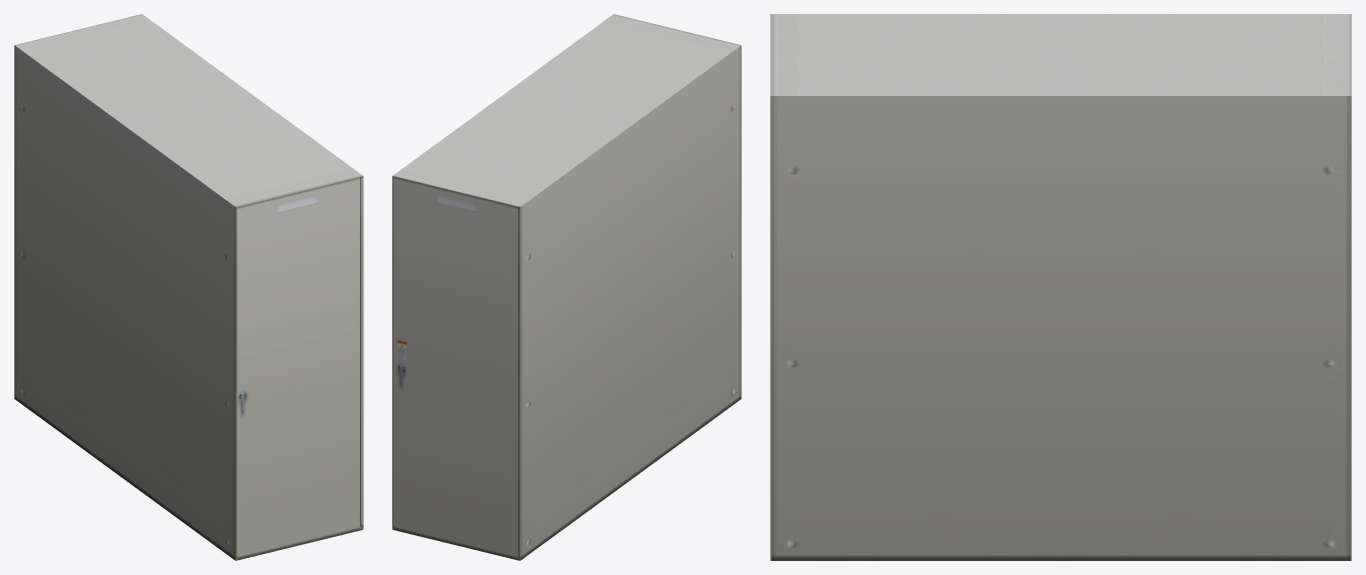
File: Blank_Panel_01.gltf
The picture shows the model from 3 angles, left to right: view 1: azimuth 30°, elevation 25°; view 2: azimuth 150°, elevation 25°; view 3: azimuth 270°, elevation 25°; orthographic projection. The views are drawn at different scales.
Parts seen in each view (by area): view 1: JP-2; view 2: JP-2; view 3: JP-2.
Boxes of the visible parts, <box> form: JP-2: <box>14,14,363,560</box>; JP-2: <box>392,14,741,560</box>; JP-2: <box>770,14,1351,560</box>.
Bounding box in the file's own units: 1 × 2.65 × 3.
Materials: 1 (1 with a texture image).
